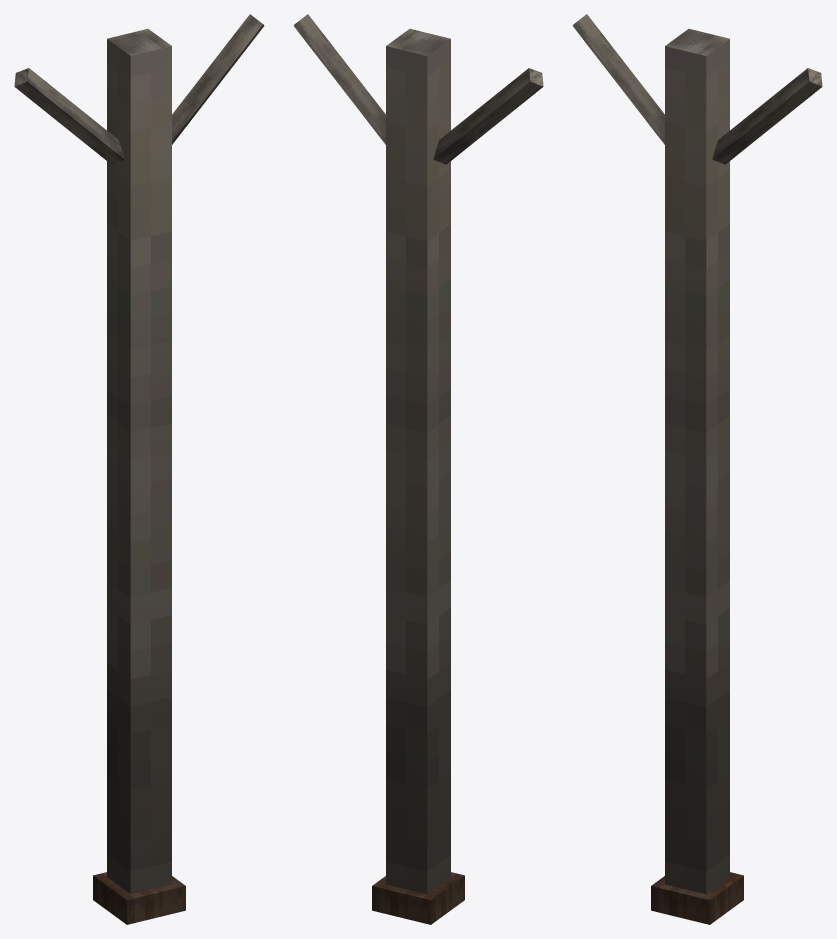
Rendered from porch_post.glb.
3 renders of one model, left to right at view 1: azimuth 30°, elevation 25°; view 2: azimuth 150°, elevation 25°; view 3: azimuth 330°, elevation 25°, orthographic.
Visible parts, largest first — view 1: porch_post; view 2: porch_post; view 3: porch_post.
Boxes of the visible parts, left/top/right/bottom form: porch_post: left=14, top=14, right=264, bottom=924; porch_post: left=293, top=14, right=543, bottom=924; porch_post: left=572, top=14, right=822, bottom=924.
Bounding box in the file's own units: 0.8495 × 2.8 × 0.2.
1 material, 1 textured.
